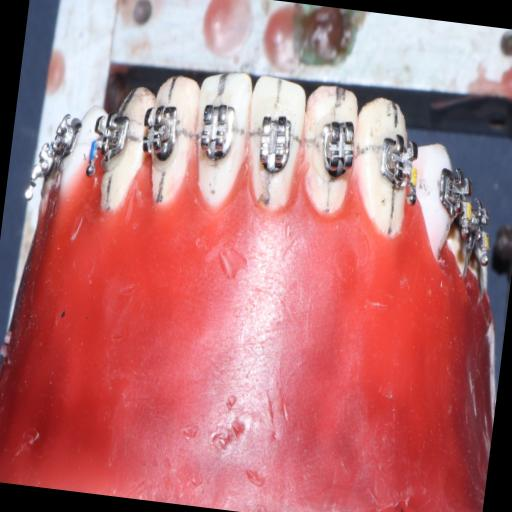incorrect_brace: (250, 110, 298, 182)
